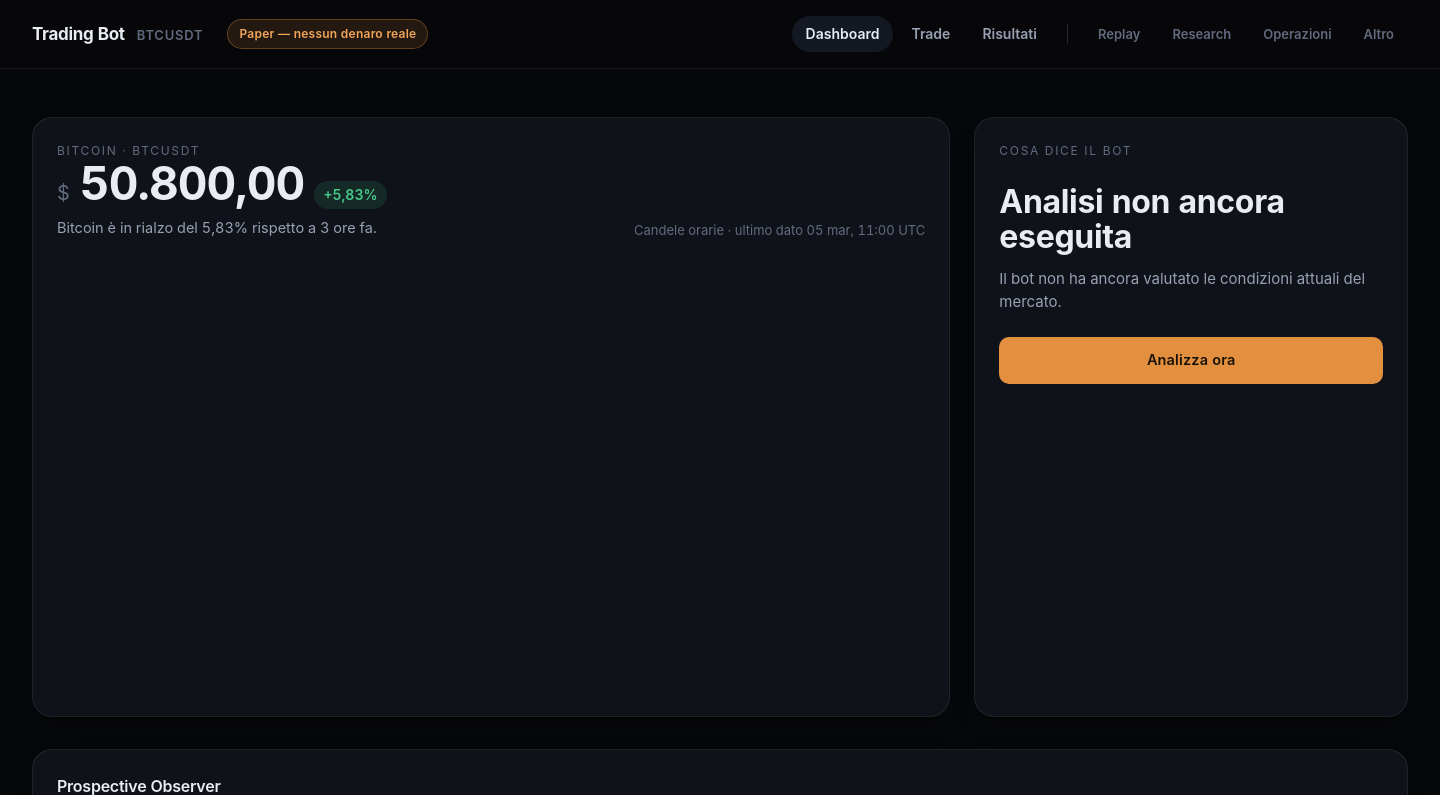
Research Lab › mostra runtime e tempi reali per fase nei dettagli di un risultato V2
Expected: the text "Analisi non ancora eseguita" is shown, [999,182,1285,256]
Click the button "Research" at (1202, 34), box [1158,17,1245,51]
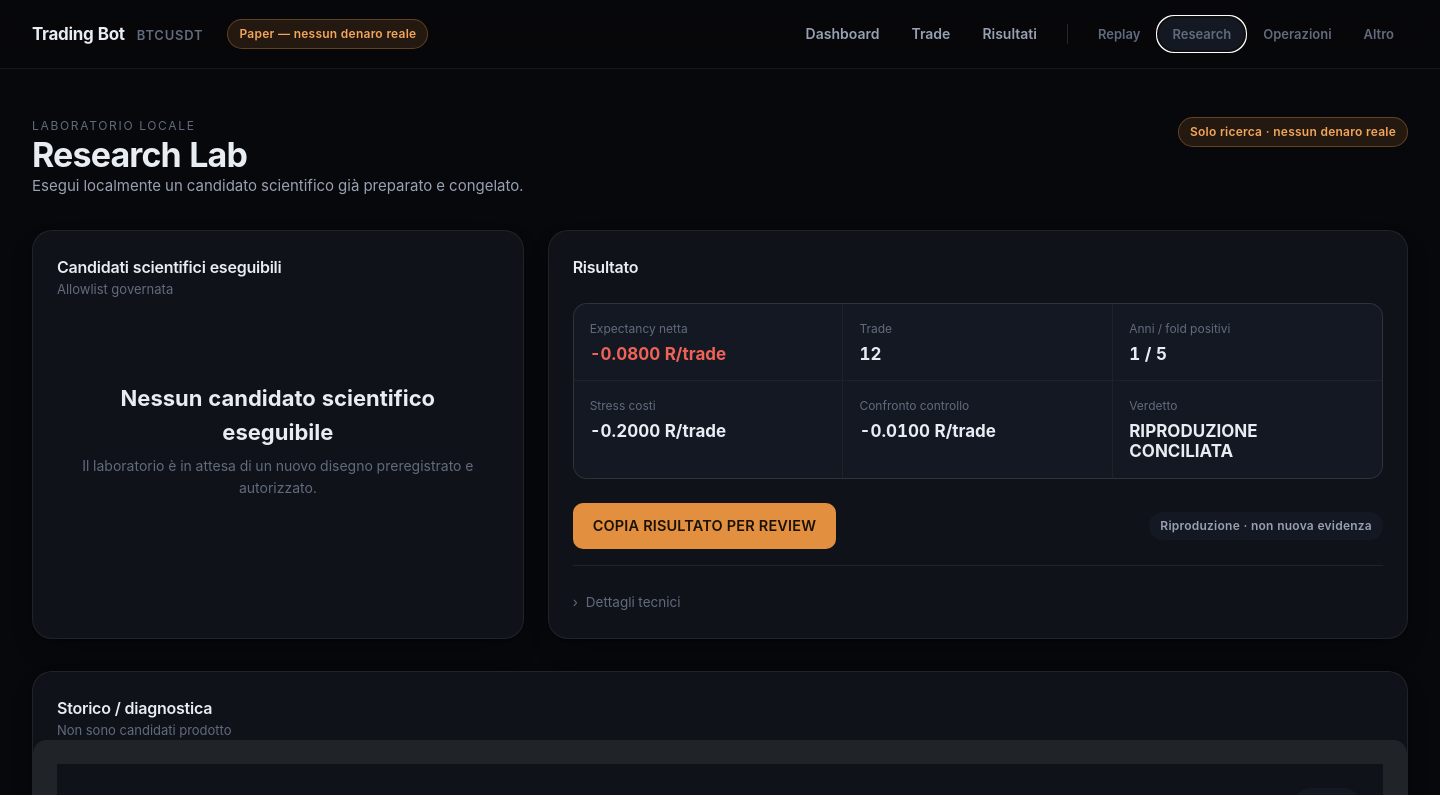
Expected: the text "Expectancy netta" is shown, [590,321,688,336]
Click the heading "Dettagli tecnici" at (626, 603), box [573,592,680,613]
(page scrolled)
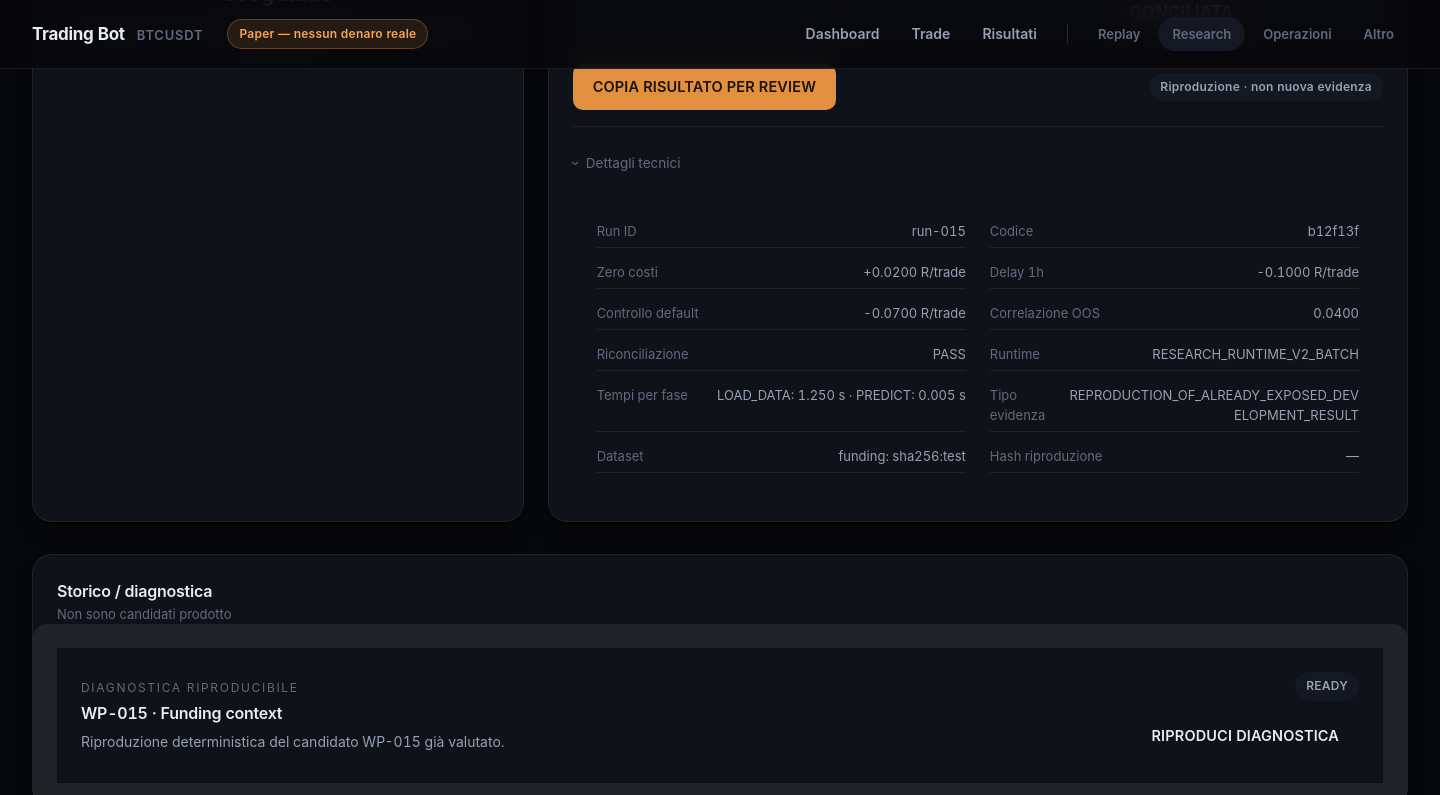
Expected: the text "RESEARCH_RUNTIME_V2_BATCH" is shown, [1152,344,1359,364]
Expected: the text "LOAD_DATA: 1.250 s · PREDICT: 0.005 s" is shown, [717,387,966,403]
